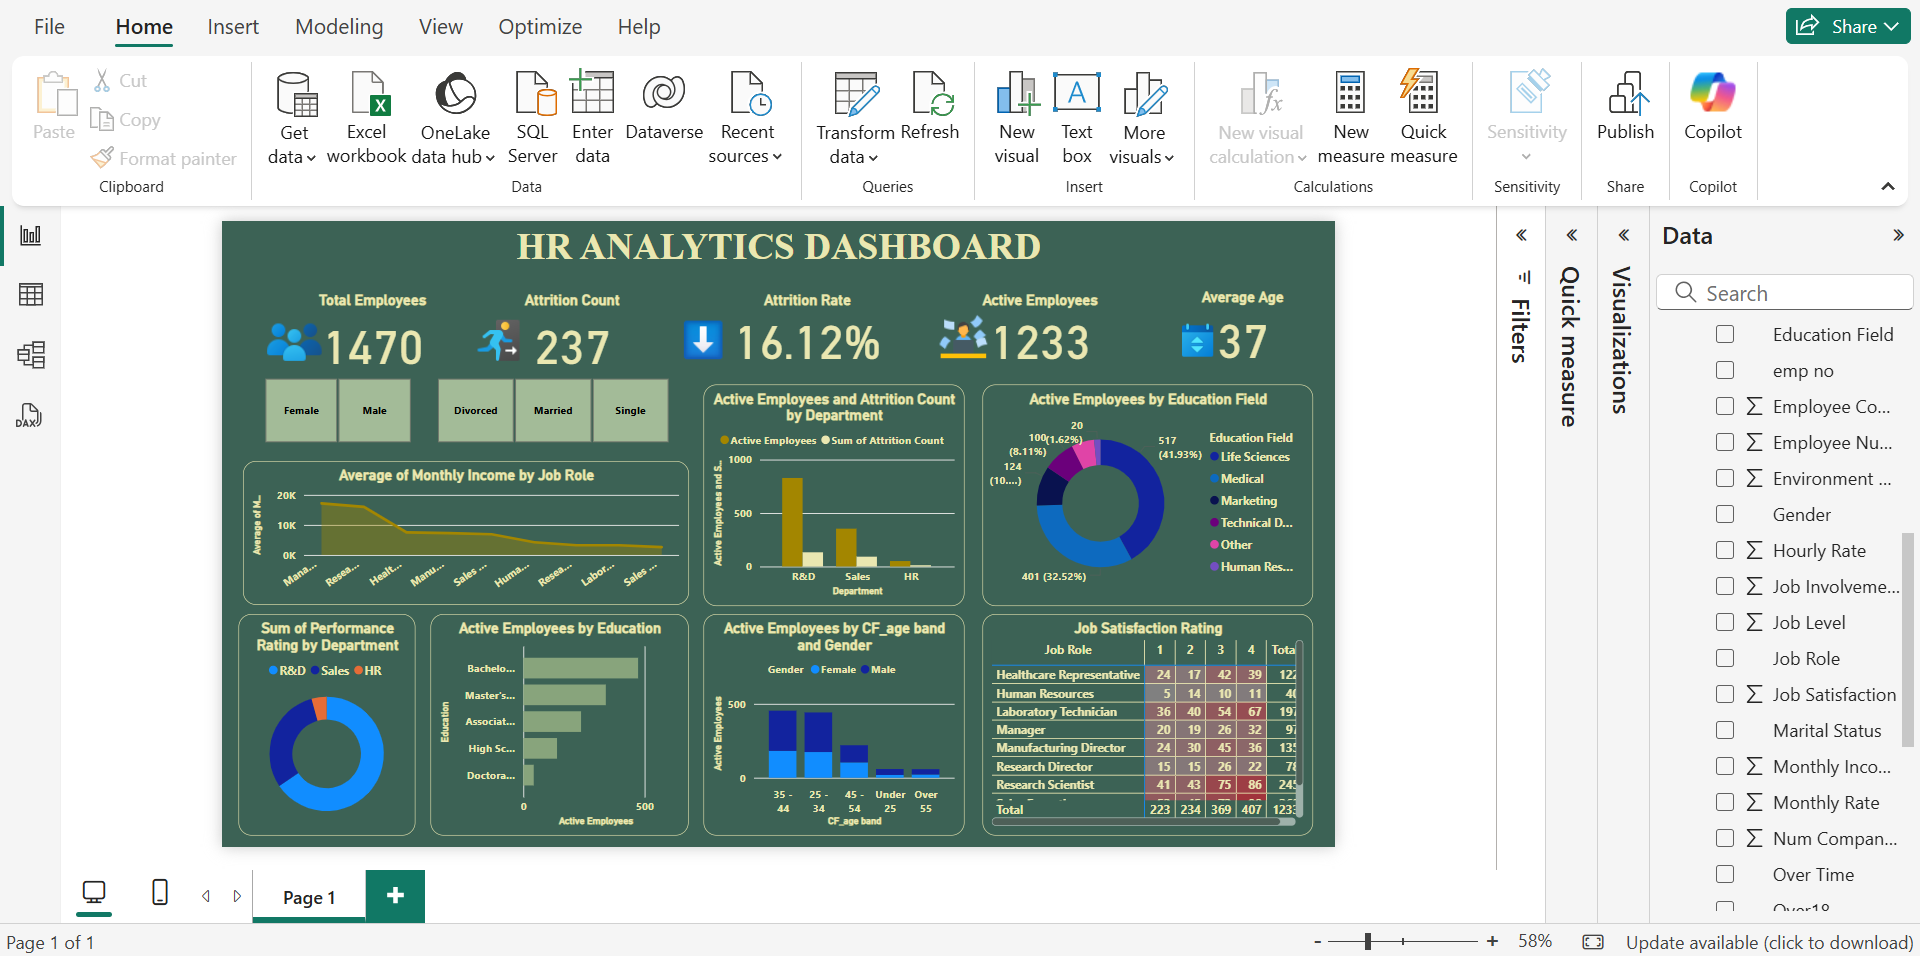

The dashboard page shown, as its layout file describes it:
{"tool":"powerbi","page":{"name":"Page 1","canvas":[1280,720],"ordinal":0},"visuals":[{"type":"card","title":"Total Employees","fields":{"Values":["Sum(HR data.Employee Count)"]},"box":[90.9,81.8,163.6,94.5],"z":0,"group":"g1"},{"type":"clusteredColumnChart","title":"Active Employees and  Attrition Count by Department","fields":{"Y":["HR data.Active Employees","Sum(HR data.Attrition Count)"],"Category":["HR data.Department"]},"box":[552.7,187.3,300,254.5],"z":0},{"type":"card","title":"Attrition Count","fields":{"Values":["Sum(HR data.Attrition Count)"]},"box":[320.4,81.8,163.6,94.5],"z":1000,"group":"g1"},{"type":"donutChart","fields":{"Y":["HR data.Active Employees"],"Category":["HR data.Education Field"]},"box":[874.5,187.3,380,254.5],"z":1000},{"type":"card","title":"Attrition Rate","fields":{"Values":["HR data.Attrition Rate"]},"box":[578.2,81.8,187.3,83.6],"z":2000,"group":"g1"},{"type":"columnChart","fields":{"Y":["HR data.Active Employees"],"Category":["HR data.CF_age band"],"Series":["HR data.Gender"]},"box":[552.7,450.9,300,254.5],"z":2000},{"type":"card","title":"Active Employees","fields":{"Values":["HR data.Active Employees"]},"box":[858.2,81.8,163.6,83.6],"z":3000,"group":"g1"},{"type":"pivotTable","title":"Job Satisfaction Rating","fields":{"Rows":["HR data.Job Role"],"Columns":["HR data.Job Satisfaction"],"Values":["HR data.Active Employees"]},"box":[874.5,450.9,380,254.5],"z":3000},{"type":"card","title":"Average Age","fields":{"Values":["Avg(HR data.Age)"]},"box":[1090.9,78.2,163.6,89.1],"z":4000,"group":"g1"},{"type":"donutChart","fields":{"Y":["Sum(HR data.Performance Rating)"],"Category":["HR data.Department"]},"box":[18.2,450.9,203.6,254.5],"z":4000},{"type":"clusteredBarChart","fields":{"Category":["HR data.Education"],"Y":["HR data.Active Employees"]},"box":[240,450.9,296.4,254.5],"z":5000},{"type":"areaChart","fields":{"Category":["HR data.Job Role"],"Y":["Avg(HR data.Monthly Income)"]},"box":[23.6,276.4,512.7,165.5],"z":6000},{"type":"slicer","fields":{"Values":["HR data.Gender"]},"box":[23.6,174.5,216.4,87.3],"z":7000},{"type":"slicer","fields":{"Values":["HR data.Marital Status"]},"box":[221.8,174.5,314.5,87.3],"z":8000},{"type":"textbox","box":[0,0,1280,74.5],"z":10000},{"type":"image","box":[47.3,100,72.7,74.5],"z":10001},{"type":"image","box":[514.5,100,78.2,72.7],"z":10002},{"type":"image","box":[283.6,103.6,72.7,67.3],"z":10003},{"type":"image","box":[816.4,94.5,72.7,76.4],"z":10004},{"type":"image","box":[1090.9,109.1,60,58.2],"z":10005},{"type":"group","id":"g1","title":"Group 1","box":[90.9,78.2,1163.6,98.2],"z":10006}]}

Visuals, with their boxes on the page's 1280x720 design canvas (x1, y1, x2, y2). These are canvas units, not pixel positions in the 1920x956 screenshot, which may show the page scaled, cropped or inside an application window:
"Total Employees" card: crop(91, 82, 254, 176)
"Active Employees and  Attrition Count by Department" clusteredColumnChart: crop(553, 187, 853, 442)
"Attrition Count" card: crop(320, 82, 484, 176)
donutChart - HR data.Active Employees x HR data.Education Field: crop(874, 187, 1254, 442)
"Attrition Rate" card: crop(578, 82, 766, 165)
columnChart - HR data.Active Employees x HR data.CF_age band: crop(553, 451, 853, 705)
"Active Employees" card: crop(858, 82, 1022, 165)
"Job Satisfaction Rating" pivotTable: crop(874, 451, 1254, 705)
"Average Age" card: crop(1091, 78, 1254, 167)
donutChart - Sum(HR data.Performance Rating) x HR data.Department: crop(18, 451, 222, 705)
clusteredBarChart - HR data.Education x HR data.Active Employees: crop(240, 451, 536, 705)
areaChart - HR data.Job Role x Avg(HR data.Monthly Income): crop(24, 276, 536, 442)
slicer - HR data.Gender: crop(24, 174, 240, 262)
slicer - HR data.Marital Status: crop(222, 174, 536, 262)
textbox: crop(0, 0, 1280, 74)
image: crop(47, 100, 120, 174)
image: crop(514, 100, 593, 173)
image: crop(284, 104, 356, 171)
image: crop(816, 94, 889, 171)
image: crop(1091, 109, 1151, 167)
"Group 1" group: crop(91, 78, 1254, 176)
